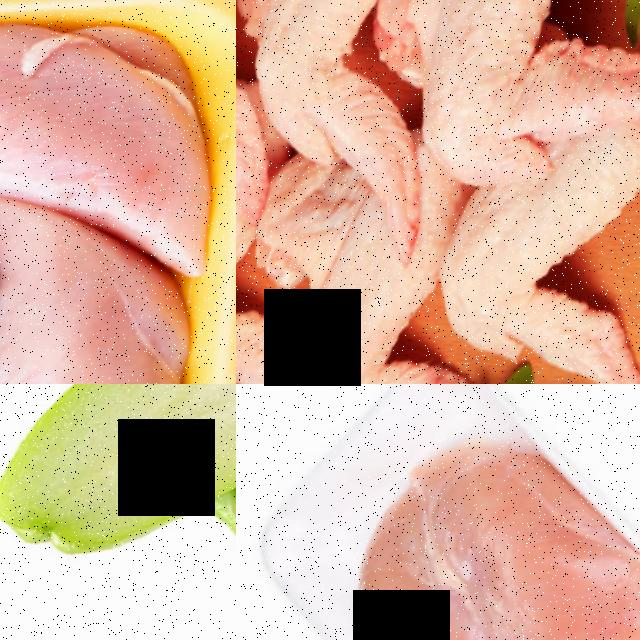chayote: (8, 384, 236, 525)
chicken breast: (353, 403, 640, 640), (0, 17, 216, 217), (0, 212, 183, 384)
chicken wing: (440, 136, 640, 384), (411, 0, 640, 183), (287, 173, 455, 384), (241, 0, 421, 189), (236, 211, 311, 384)
